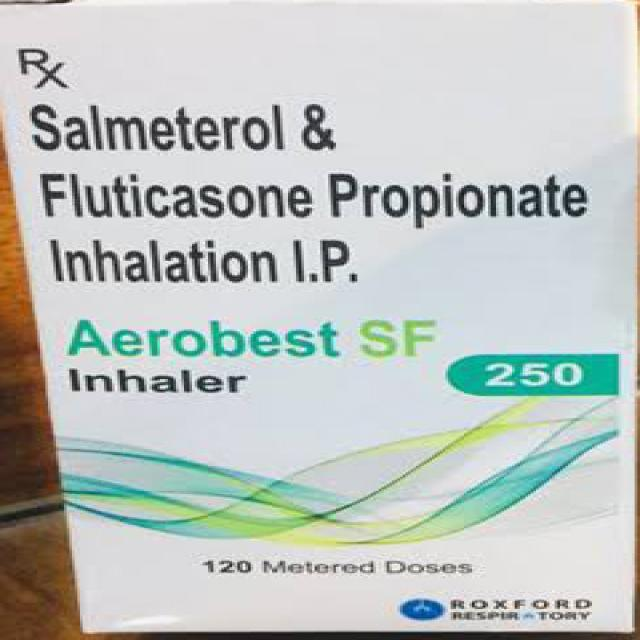drug-name: (64, 314, 440, 362)
